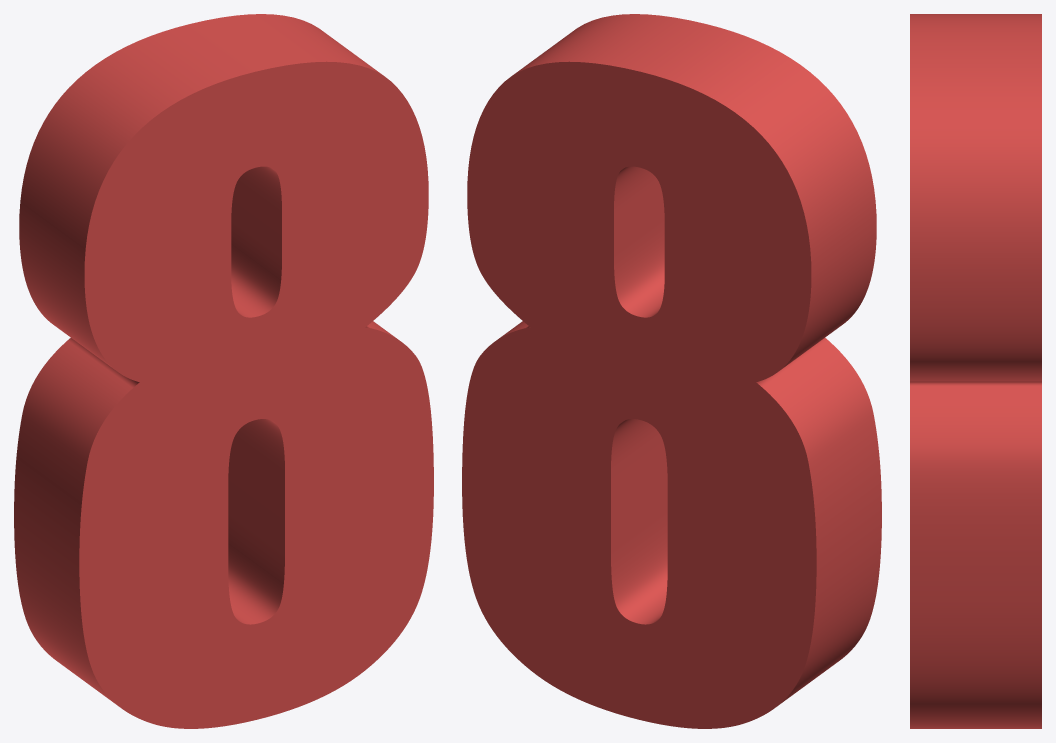
3 views of the same model, side by side, from view 1: azimuth 30°, elevation 25°; view 2: azimuth 150°, elevation 25°; view 3: azimuth 270°, elevation 25° (orthographic).
Visible parts, largest first — view 1: テキスト; view 2: テキスト; view 3: テキスト.
Part boxes in pixels (x1,y1,x2,y2): テキスト: [14, 14, 433, 728]; テキスト: [462, 14, 881, 728]; テキスト: [910, 14, 1041, 728].
Bounding box in the file's own units: 0.3135 × 0.5477 × 0.1.
